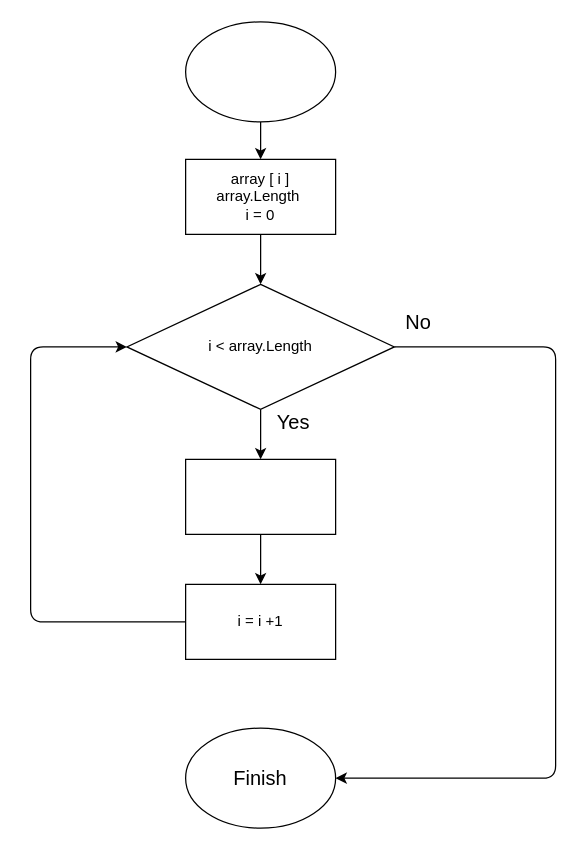
Some shapes in this 588 by 850 pixel diagram are drawn without their labels. The shapes that lost their labels are listed below. From the top down, each one's box as (x1, y1, x2, y2) in pixels, then its label:
(184, 21, 336, 122): Start
(184, 458, 336, 534): Печать array [ i ]
